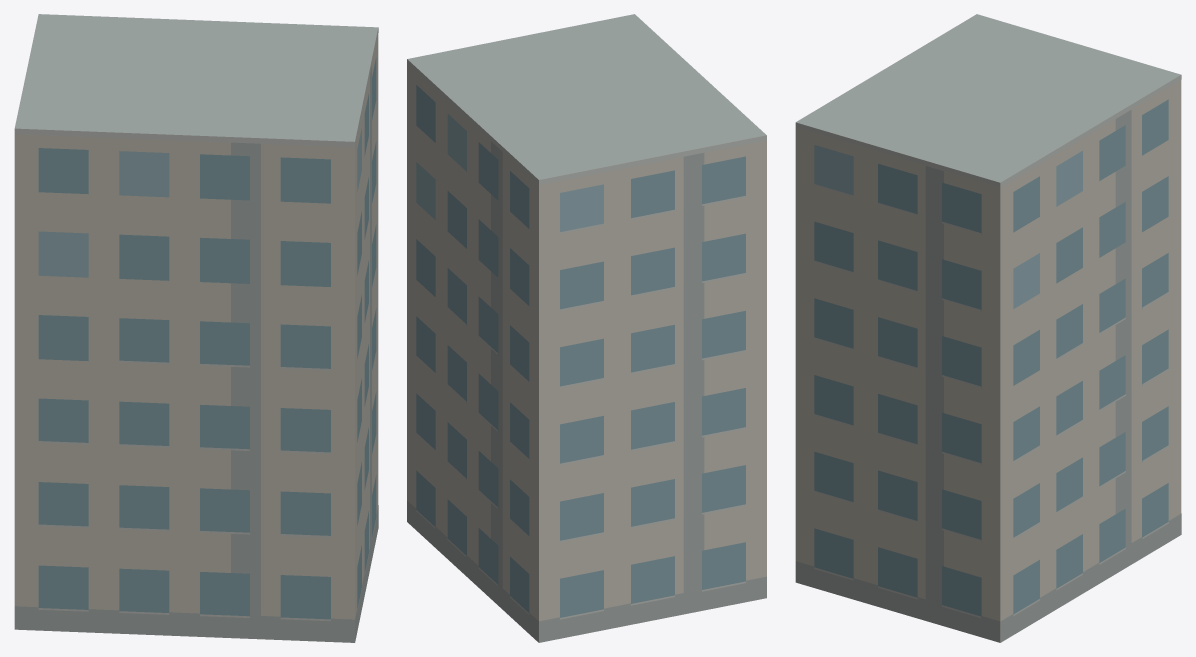
The model's file is survey-upis-32838172.glb.
The picture shows the model from 3 angles, left to right: view 1: azimuth 30°, elevation 25°; view 2: azimuth 150°, elevation 25°; view 3: azimuth 270°, elevation 25°; orthographic projection. The views are drawn at different scales.
Visible parts, largest first — view 1: survey-upis-32838172.tmp; view 2: survey-upis-32838172.tmp; view 3: survey-upis-32838172.tmp.
Part boxes in pixels (left/top/right/bottom): survey-upis-32838172.tmp: left=14, top=14, right=378, bottom=642; survey-upis-32838172.tmp: left=407, top=14, right=766, bottom=642; survey-upis-32838172.tmp: left=795, top=14, right=1181, bottom=642.
Bounding box in the file's own units: 17.31 × 22 × 16.73.
